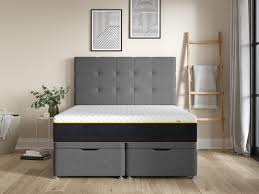bed-matress: (52, 103, 199, 142)
